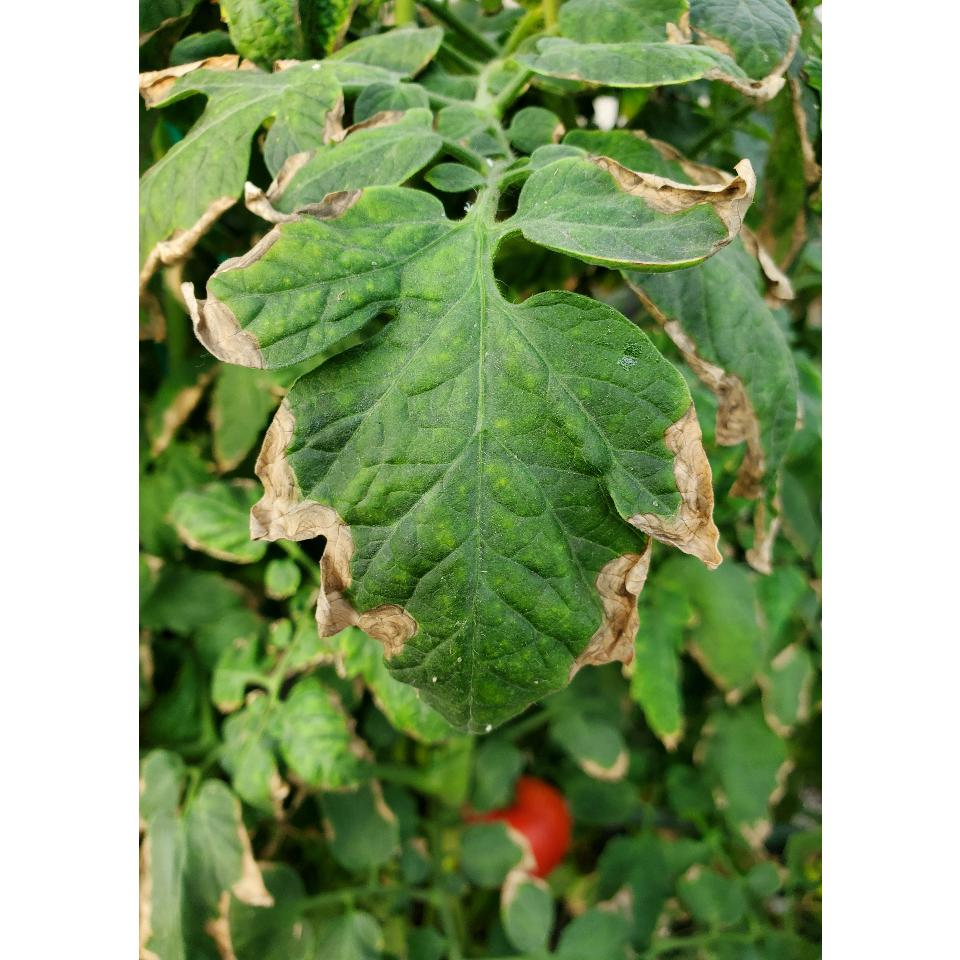tomato_bacterial_blight: (191, 166, 731, 746)
